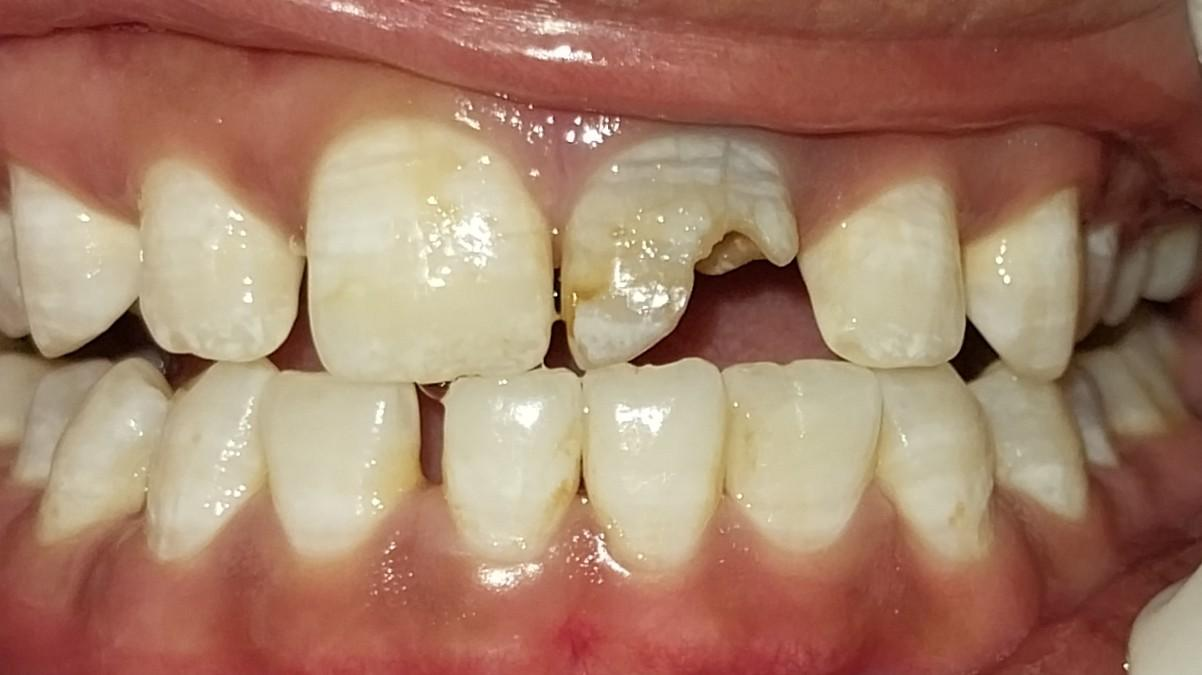D: (563, 125, 801, 370)
